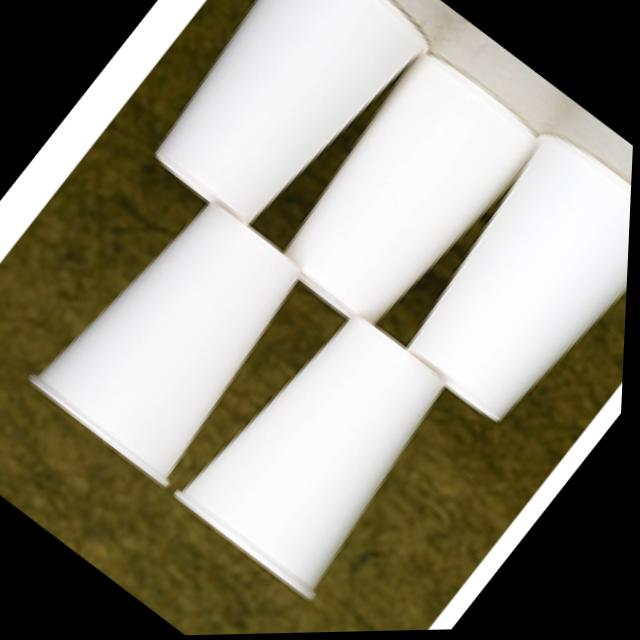paper_cups: (20, 176, 331, 496), (169, 290, 478, 607), (266, 46, 557, 352), (379, 125, 635, 453), (130, 0, 443, 256)
